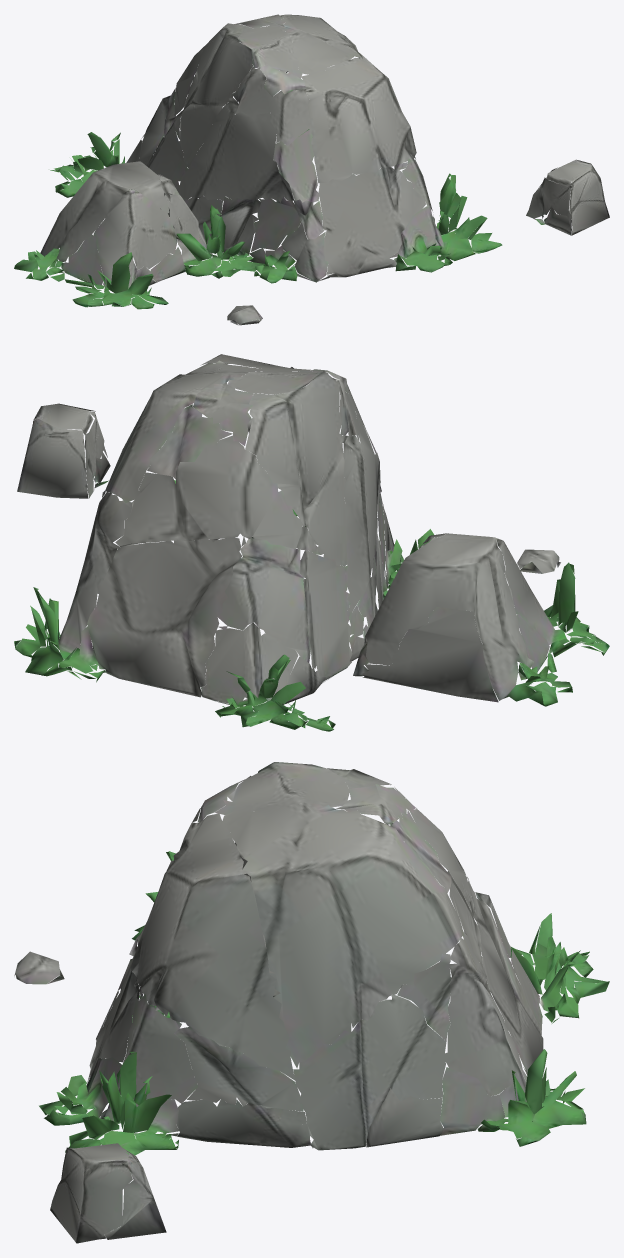
Rendered from green14.glb.
3 renders of one model, top to bottom at view 1: azimuth 30°, elevation 25°; view 2: azimuth 150°, elevation 25°; view 3: azimuth 270°, elevation 25°, orthographic. The views are drawn at different scales.
Visible parts, largest first — view 1: tripo_node_6337bb4e-801c-42e4-a7b0-5648014c6e54; view 2: tripo_node_6337bb4e-801c-42e4-a7b0-5648014c6e54; view 3: tripo_node_6337bb4e-801c-42e4-a7b0-5648014c6e54.
Part boxes in pixels (x1=…): tripo_node_6337bb4e-801c-42e4-a7b0-5648014c6e54: x1=14, y1=14, x2=609, y2=325; tripo_node_6337bb4e-801c-42e4-a7b0-5648014c6e54: x1=14, y1=354, x2=609, y2=731; tripo_node_6337bb4e-801c-42e4-a7b0-5648014c6e54: x1=14, y1=762, x2=609, y2=1243.
Size of the model in its own units: 1 by 0.3699 by 0.7076.
Materials: 1 (1 with a texture image).
